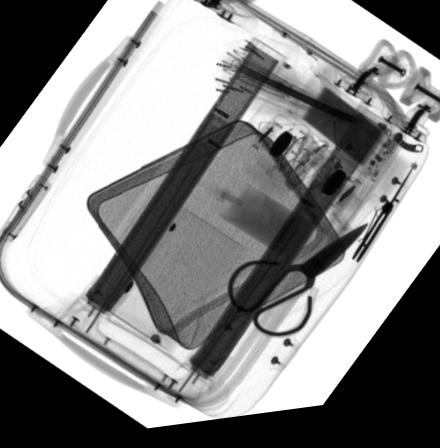Knife: (347, 172, 418, 276)
Powerbank: (284, 81, 404, 195)
Scissors: (224, 231, 370, 346)
